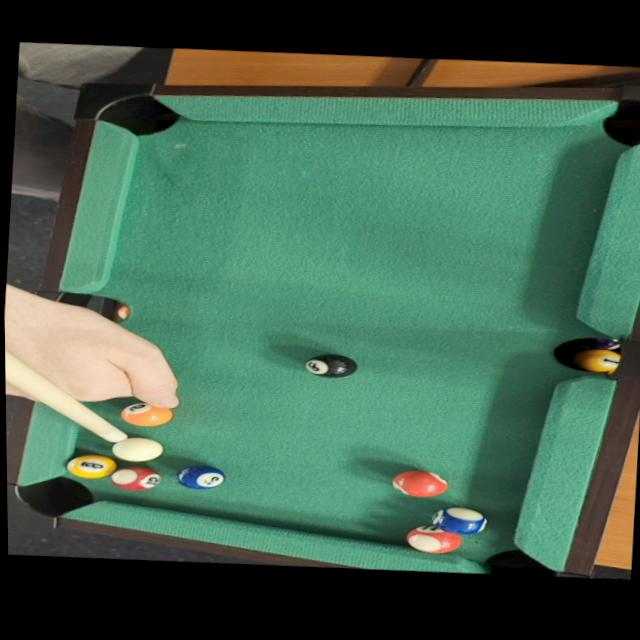cue ball: (113, 433, 170, 464)
other: (402, 516, 464, 558), (388, 465, 455, 501), (429, 503, 495, 539), (121, 397, 180, 433), (58, 449, 121, 482), (298, 350, 361, 381), (173, 459, 227, 493), (108, 460, 165, 492)
